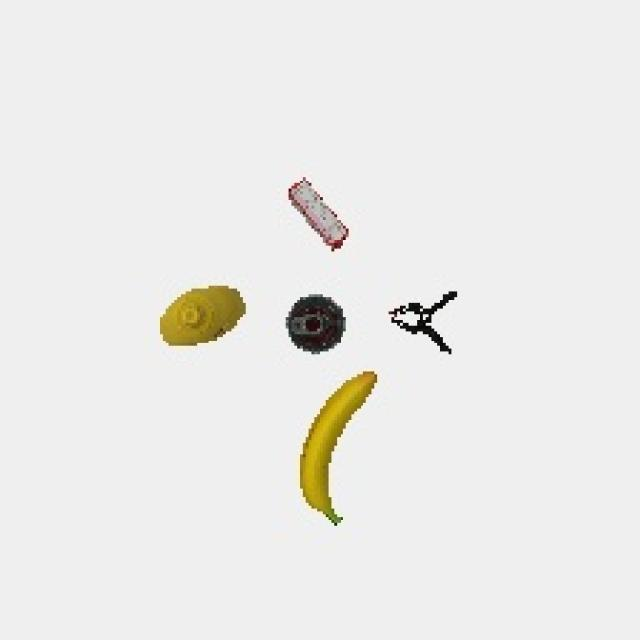Banana: (292, 369, 386, 533)
GelatinBox: (283, 170, 354, 262)
MediumClamp: (380, 282, 475, 360)
MustardBottle: (151, 280, 255, 357)
TomatoSoupCan: (279, 290, 358, 362)
